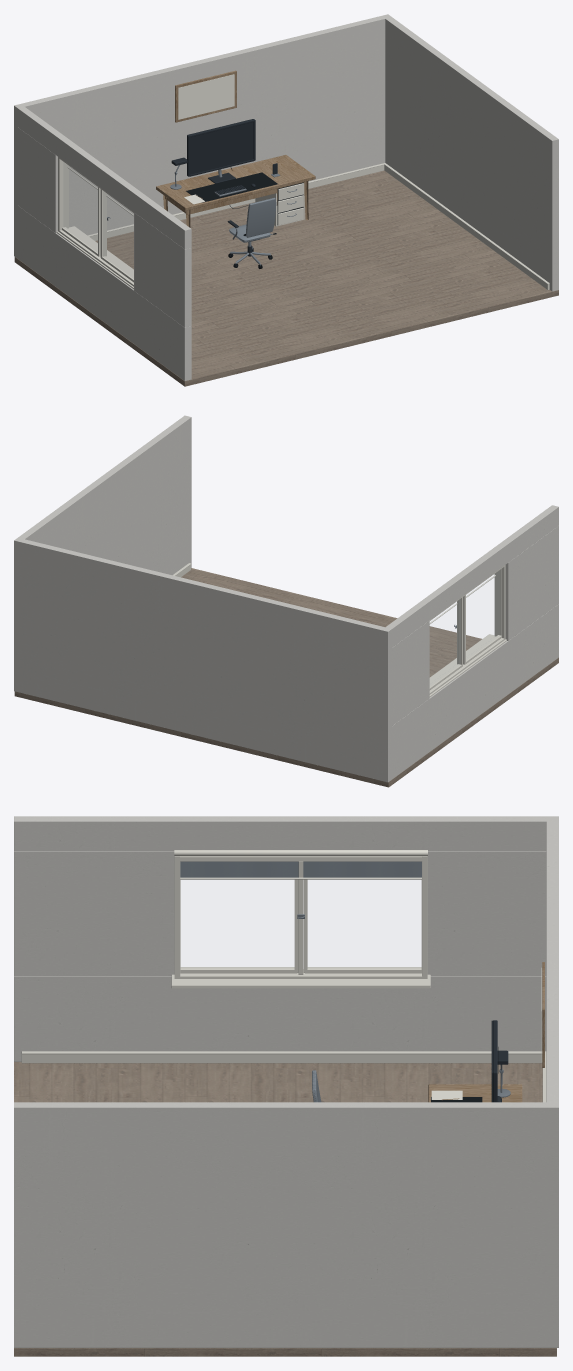
The model's file is room-corner-high.glb.
The picture shows the model from 3 angles, top to bottom: view 1: azimuth 30°, elevation 25°; view 2: azimuth 150°, elevation 25°; view 3: azimuth 270°, elevation 25°; orthographic projection. The views are drawn at different scales.
Visible parts, largest first — view 1: room-corner-authored-solids; view 2: room-corner-authored-solids; view 3: room-corner-authored-solids.
Part boxes in pixels (<box>): room-corner-authored-solids: <box>14,14,558,386</box>; room-corner-authored-solids: <box>14,415,558,787</box>; room-corner-authored-solids: <box>14,816,558,1356</box>.
Bounding box in the file's own units: 6.6 × 2.63 × 5.22.
Materials: 14 (4 with a texture image).
